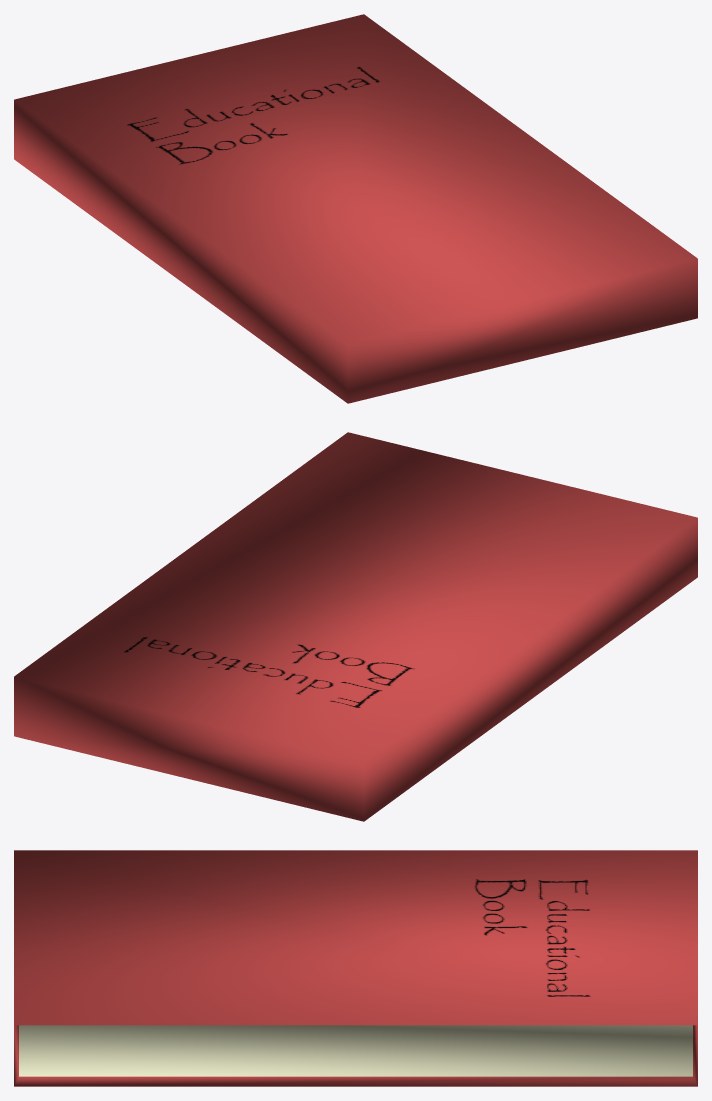
Rendered from Book.obj.
3 views of the same model, one above another, from view 1: azimuth 30°, elevation 25°; view 2: azimuth 150°, elevation 25°; view 3: azimuth 270°, elevation 25° (orthographic). The views are drawn at different scales.
Visible parts, largest first — view 1: Book; view 2: Book; view 3: Book.
Boxes of the visible parts, <box> form: Book: <box>14,14,697,403</box>; Book: <box>14,432,697,821</box>; Book: <box>14,850,697,1086</box>.
Bounding box in the file's own units: 3.21 × 0.5234 × 5.3.
